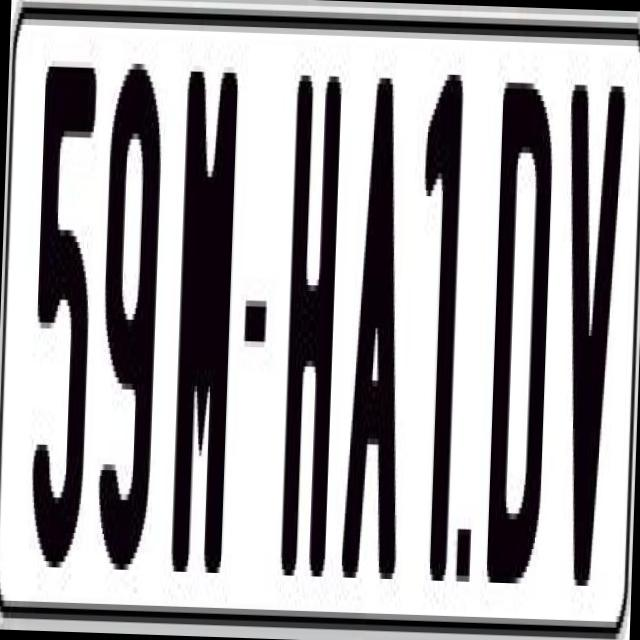1: (408, 73, 463, 604)
5: (28, 53, 102, 586)
9: (92, 56, 170, 576)
A: (337, 60, 416, 568)
D: (482, 64, 560, 578)
H: (277, 69, 342, 606)
M: (170, 64, 240, 596)
V: (553, 78, 626, 581)
